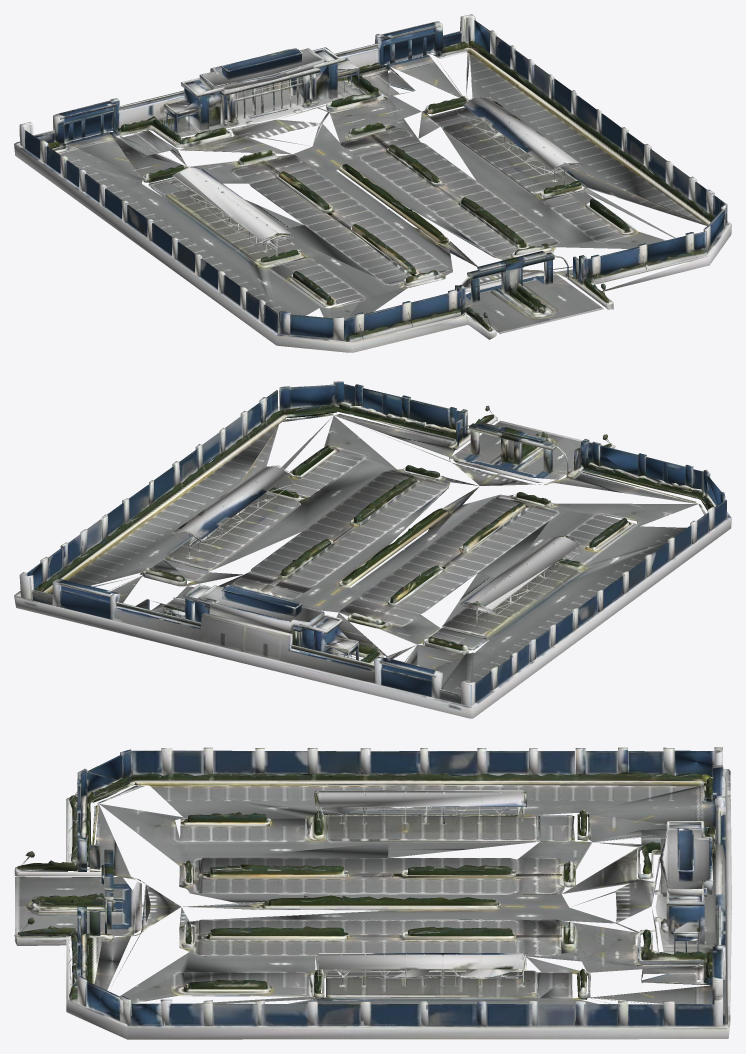
File: parking_entrance.glb
The picture shows the model from 3 angles, top to bottom: view 1: azimuth 30°, elevation 25°; view 2: azimuth 150°, elevation 25°; view 3: azimuth 270°, elevation 25°; orthographic projection. The views are drawn at different scales.
Parts seen in each view (by area): view 1: prop; view 2: prop; view 3: prop.
Boxes of the visible parts, x1,y1,x2,y2 form: prop: [14, 14, 731, 352]; prop: [14, 381, 731, 718]; prop: [14, 747, 731, 1039].
Bounding box in the file's own units: 25.59 × 2.85 × 30.
Materials: 1 (1 with a texture image).
